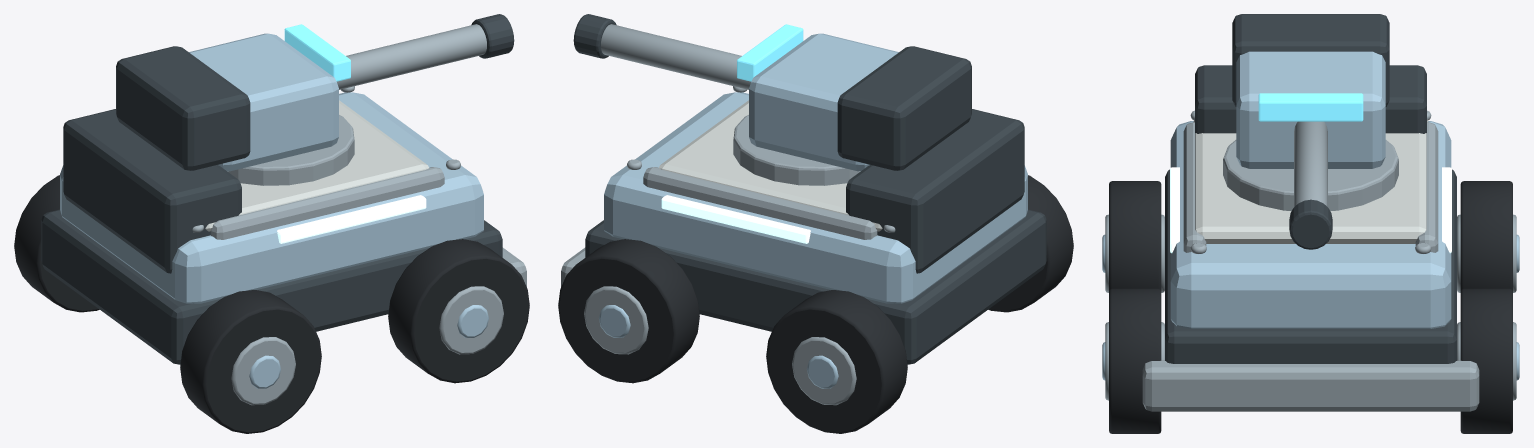
File: robot-infantry.glb
3 views of the same model, side by side, from view 1: azimuth 30°, elevation 25°; view 2: azimuth 150°, elevation 25°; view 3: azimuth 270°, elevation 25° (orthographic). The views are drawn at different scales.
Parts seen in each view (by area): view 1: Chassis_GraphiteArmor, ArmorHull, AmmoContainer, WheelTire.002, WheelTire, TurretHousing, TopPlate, Chassis_BrushedTitanium, Barrel, WheelTire.001, TurretBearing, Hub.002 (+6 smaller); view 2: Chassis_GraphiteArmor, ArmorHull, AmmoContainer, WheelTire.003, WheelTire.001, TurretHousing, TopPlate, Chassis_BrushedTitanium, Barrel, WheelTire, TurretBearing, Hub.003 (+6 smaller); view 3: ArmorHull, Chassis_BrushedTitanium, Chassis_GraphiteArmor, TurretHousing, TopPlate, WheelTire.003, WheelTire.002, AmmoContainer, WheelTire.001, WheelTire, TurretBearing, SensorPanel (+7 smaller).
Part boxes in pixels (x1,y1,x2,y2): Chassis_GraphiteArmor: (41,109,502,364); ArmorHull: (60,92,483,303); AmmoContainer: (116,46,250,170); WheelTire.002: (388,239,529,383); WheelTire: (180,290,321,433); TurretHousing: (189,33,338,171); TopPlate: (205,100,428,231); Chassis_BrushedTitanium: (192,86,526,286); Barrel: (337,24,486,89); WheelTire.001: (14,175,99,312); TurretBearing: (227,115,354,185); Hub.002: (439,286,503,354); Chassis_GraphiteArmor: (585,109,1046,364); ArmorHull: (604,92,1027,303); AmmoContainer: (837,46,971,170); WheelTire.003: (558,239,699,383); WheelTire.001: (766,290,907,433); TurretHousing: (749,33,898,171); TopPlate: (659,100,882,231); Chassis_BrushedTitanium: (561,86,895,286); Barrel: (601,24,750,89); WheelTire: (988,175,1073,312); TurretBearing: (733,115,860,185); Hub.003: (584,286,648,354); ArmorHull: (1170,121,1451,328); Chassis_BrushedTitanium: (1142,110,1479,411); Chassis_GraphiteArmor: (1165,65,1456,363); TurretHousing: (1236,51,1385,168); TopPlate: (1193,119,1428,243); WheelTire.003: (1460,288,1512,433); WheelTire.002: (1109,288,1161,433); AmmoContainer: (1232,14,1389,106); WheelTire.001: (1460,181,1512,290); WheelTire: (1109,181,1161,290); TurretBearing: (1223,140,1398,210); SensorPanel: (1258,93,1363,121).
Bounding box in the file's own units: 0.8857 × 0.6018 × 0.7582.
